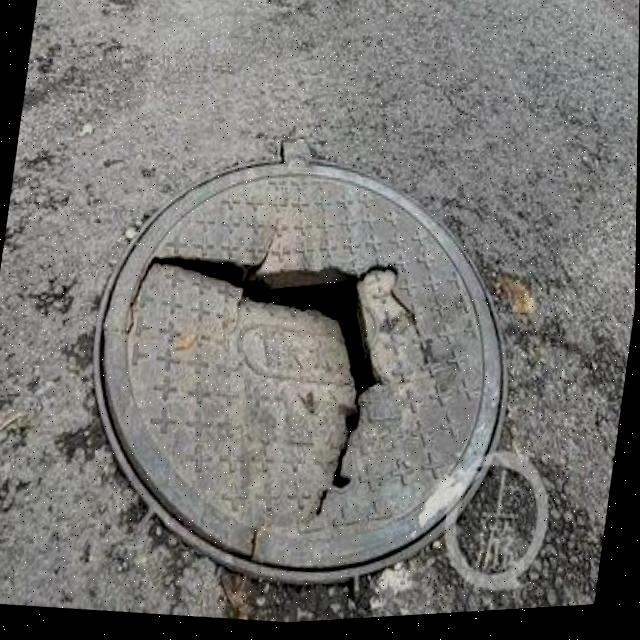manhole: (57, 104, 543, 616)
